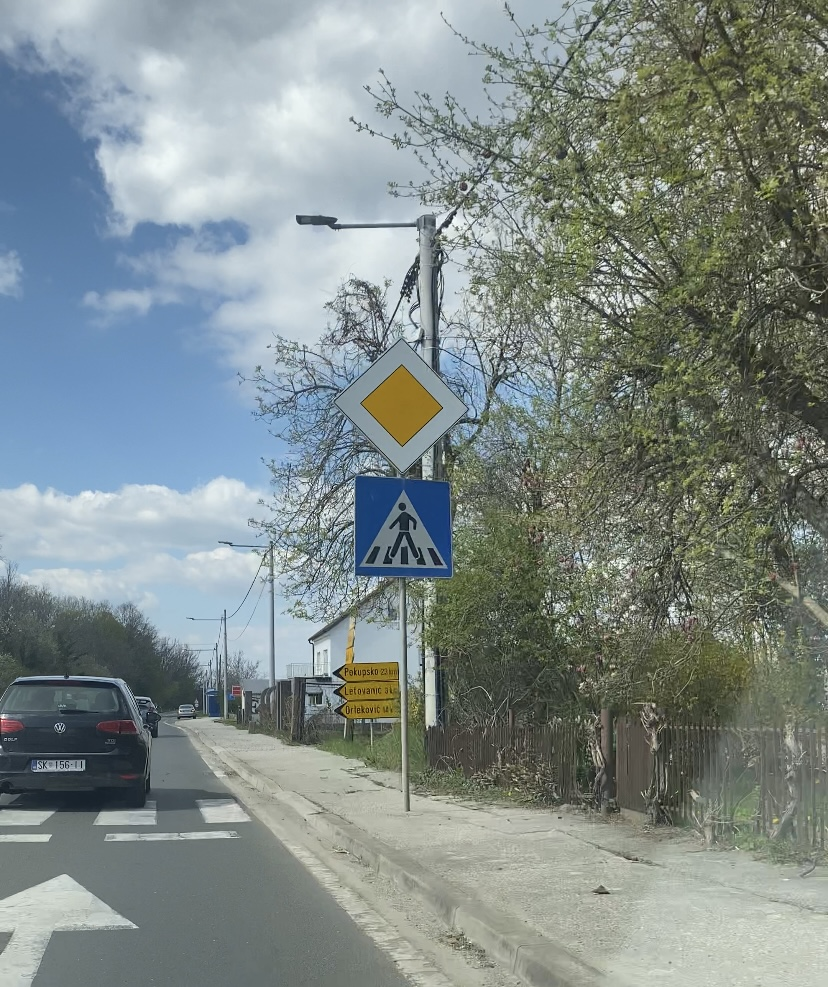Cesta s prednošću prolaska: (333, 338, 470, 474)
Pješački prijelaz: (354, 475, 453, 579)
